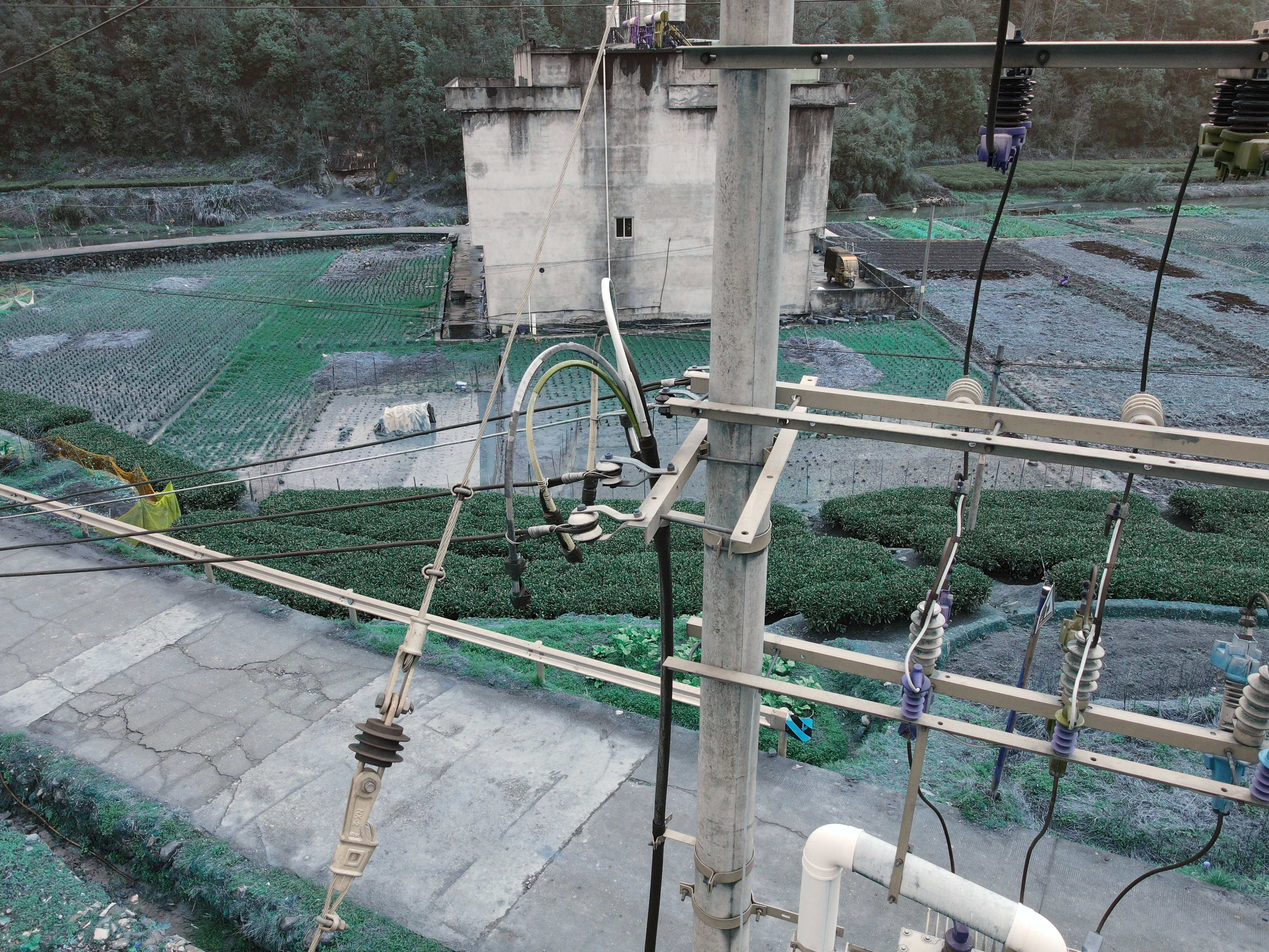severe_soiling_no_discharge_whole: (1057, 628, 1104, 707), (907, 601, 946, 674), (1230, 666, 1266, 744)
